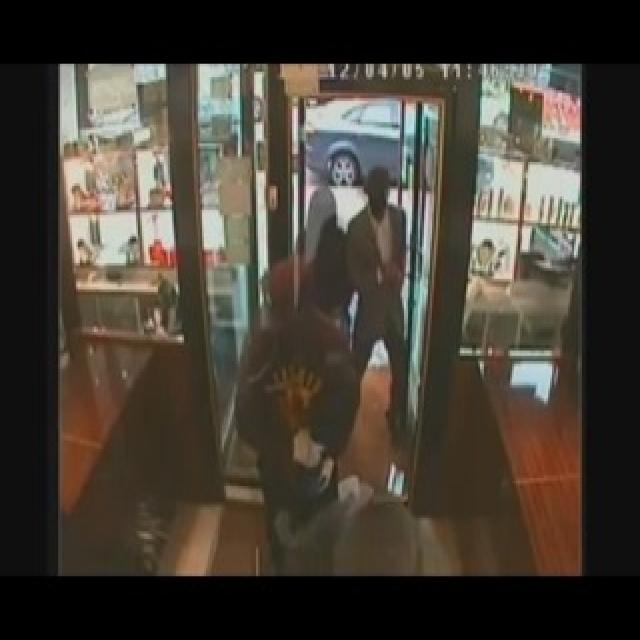thief: (243, 163, 419, 516)
